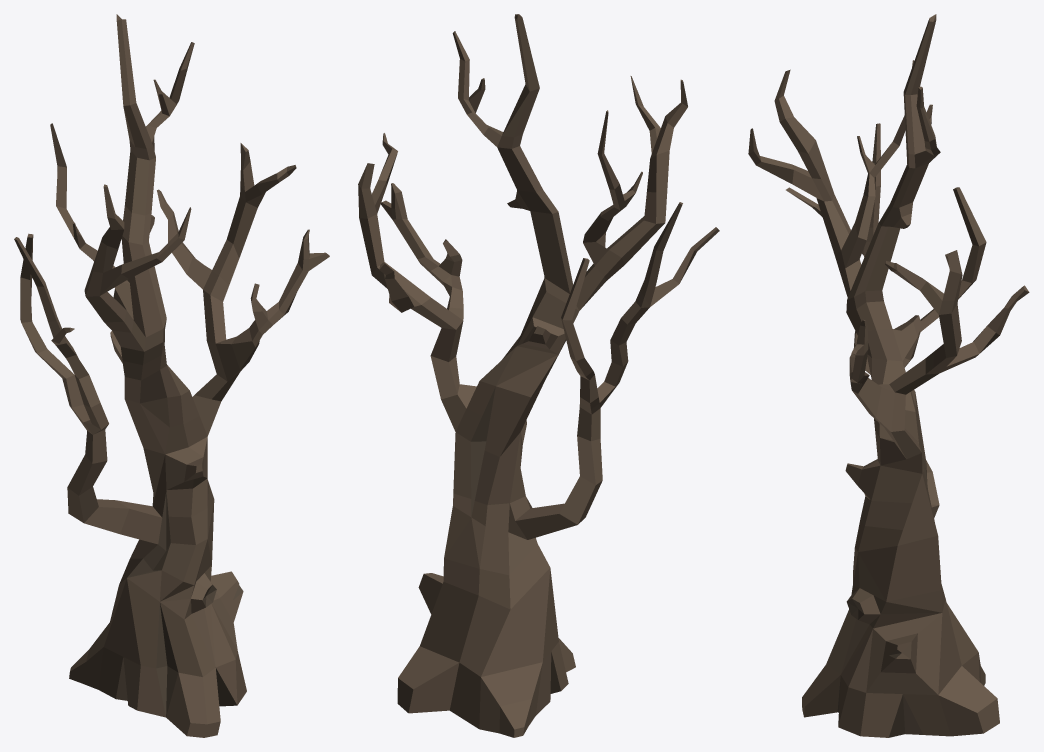
The model's file is desert_SM_Env_Tree_Dead_02.gltf.
The picture shows the model from 3 angles, left to right: view 1: azimuth 30°, elevation 25°; view 2: azimuth 150°, elevation 25°; view 3: azimuth 270°, elevation 25°; orthographic projection. The views are drawn at different scales.
Visible parts, largest first — view 1: SM_Env_Tree_Dead_02; view 2: SM_Env_Tree_Dead_02; view 3: SM_Env_Tree_Dead_02.
Boxes of the visible parts, x1,y1,x2,y2 form: SM_Env_Tree_Dead_02: (14,14,329,737); SM_Env_Tree_Dead_02: (358,14,719,737); SM_Env_Tree_Dead_02: (748,14,1029,737).
Size of the model in its own units: 1.93 by 4.23 by 1.54.
Materials: 1 (1 with a texture image).
